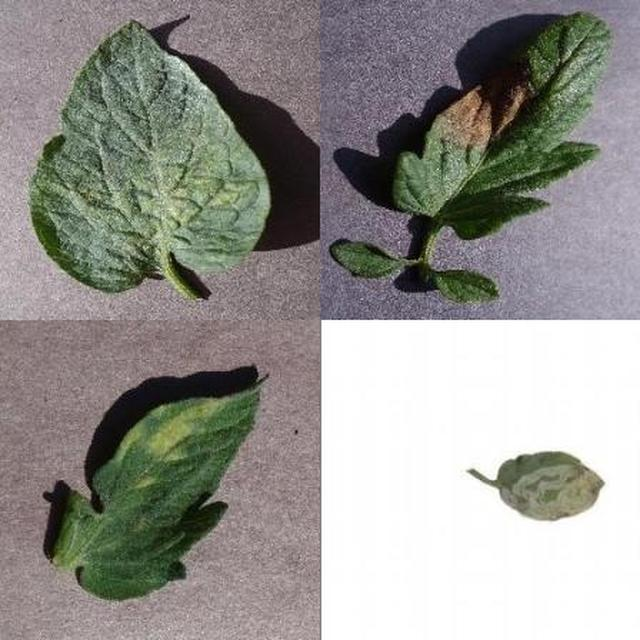Spider Mites Leaf: (158, 102, 640, 640)
